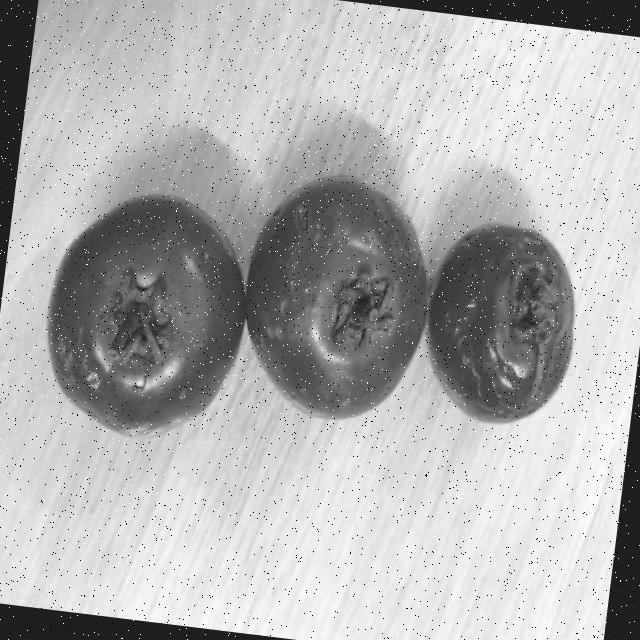Ripe: (33, 175, 254, 448), (233, 160, 443, 432)
overripe: (418, 208, 591, 436)
